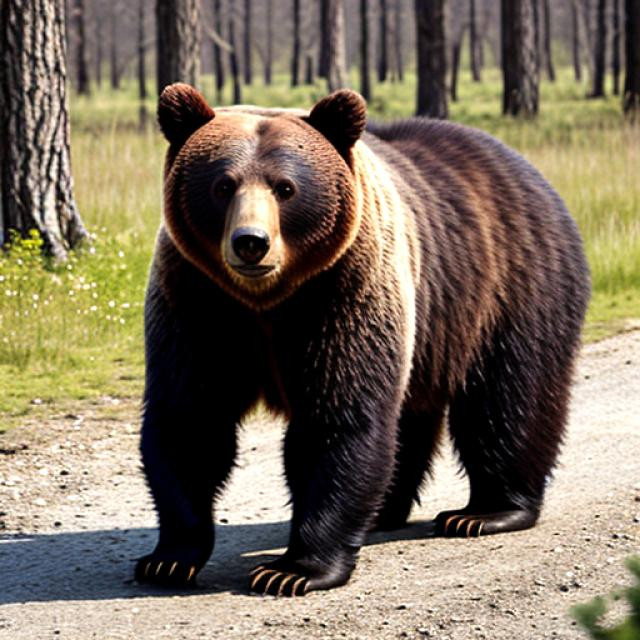bear: (124, 64, 388, 299)
